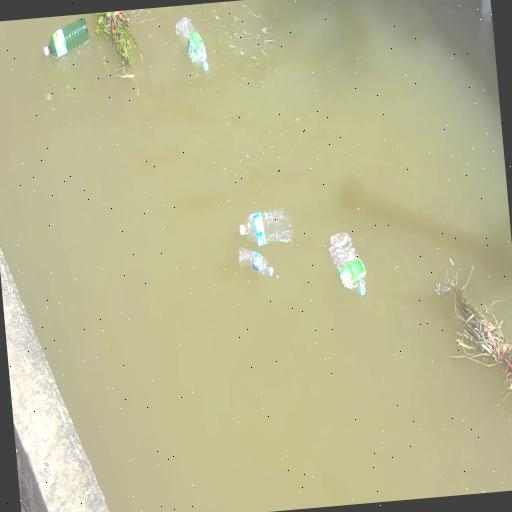plastic: (170, 8, 222, 90), (326, 220, 369, 303), (234, 201, 298, 255), (36, 14, 96, 70), (228, 240, 279, 286)
twig: (441, 249, 512, 409), (94, 9, 148, 82)
